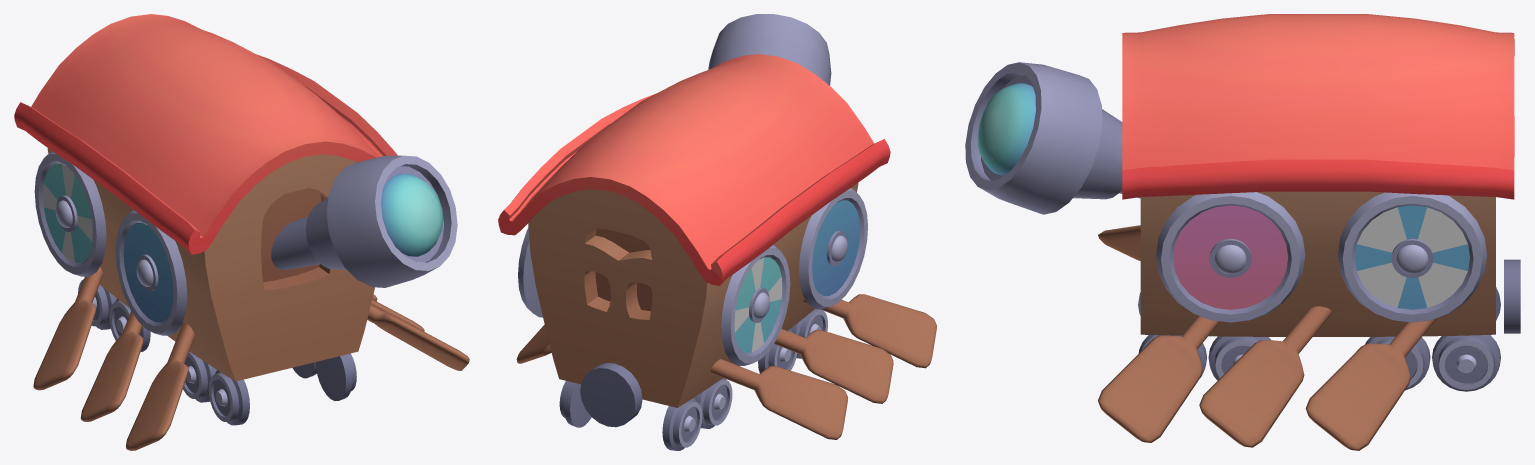
File: Navigatin_Wagon.fbx
3 renders of one model, left to right at view 1: azimuth 30°, elevation 25°; view 2: azimuth 150°, elevation 25°; view 3: azimuth 270°, elevation 25°, orthographic. The views are drawn at different scales.
Parts seen in each view (by area): view 1: Navigation_wagon; view 2: Navigation_wagon; view 3: Navigation_wagon.
Part boxes in pixels (bbox=[...]): Navigation_wagon: bbox=[14, 14, 469, 450]; Navigation_wagon: bbox=[498, 14, 936, 450]; Navigation_wagon: bbox=[965, 14, 1520, 450].
Size of the model in its own units: 6.36 by 5.43 by 8.1.
1 material, 1 textured.
